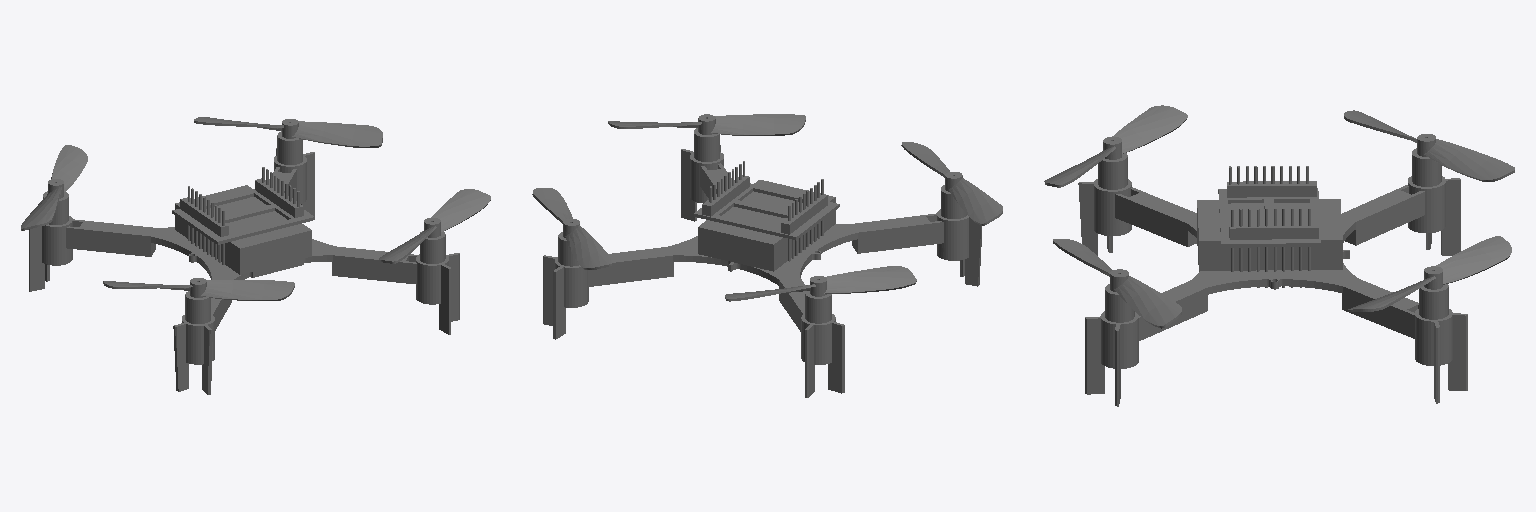
robot.urdf — racer:
<?xml version="1.0" ?>

<robot name="racer">

  <properties arm="0.109" kf="8.47e-9" km="2.13e-11" thrust2weight="4.17" max_speed_kmh="200" gnd_eff_coeff="11.36859" prop_radius="12.7e-2" drag_coeff_xy="9.1785e-7" drag_coeff_z="10.311e-7" dw_coeff_1="2267.18" dw_coeff_2=".16" dw_coeff_3="-.11" />

  <link name="base_link"> 

    <inertial>
      <origin rpy="0 0 0" xyz="0 0 0"/>
      <mass value="0.830"/>
      <inertia ixx=".003113" ixy="0.0" ixz="0.0" iyy=".003113" iyz="0.0" izz=".003113"/>
    </inertial>

    <visual>
      <origin rpy="0 0 55" xyz="0 0 0"/>
      <geometry>
        <mesh filename="./cf2.dae" scale="3 3 3"/>
      </geometry> 
      <material name="grey">
        <color rgba=".5 .5 .5 1"/>
      </material> 
    </visual>

    <collision>
      <origin rpy="0 0 0" xyz="0 0 0"/>
      <geometry>
        <cylinder radius=".06" length=".025"/>
      </geometry>
    </collision>  

  </link>

  <link name="prop0_link">
    <inertial>
      <origin rpy="0 0 0" xyz="0.0850 0.0675 0"/>
      <mass value="0"/>
      <inertia ixx="0" ixy="0" ixz="0" iyy="0" iyz="0" izz="0"/>
    </inertial>
  </link>
  <joint name="prop0_joint" type="fixed">
    <parent link="base_link"/>
    <child link="prop0_link"/>
  </joint>

  <link name="prop1_link">
    <inertial>
      <origin rpy="0 0 0" xyz="-0.0850 0.0675 0"/>
      <mass value="0"/>
      <inertia ixx="0" ixy="0" ixz="0" iyy="0" iyz="0" izz="0"/>
    </inertial>
  </link>
  <joint name="prop1_joint" type="fixed">
    <parent link="base_link"/>
    <child link="prop1_link"/>
  </joint>

  <link name="prop2_link">
    <inertial>
      <origin rpy="0 0 0" xyz="-0.085 -0.0675 0"/>
      <mass value="0"/>
      <inertia ixx="0" ixy="0" ixz="0" iyy="0" iyz="0" izz="0"/>
    </inertial>
  </link>
  <joint name="prop2_joint" type="fixed">
    <parent link="base_link"/>
    <child link="prop2_link"/>
  </joint>

  <link name="prop3_link">
    <inertial>
      <origin rpy="0 0 0" xyz="0.085 -0.0675 0"/>
      <mass value="0"/>
      <inertia ixx="0" ixy="0" ixz="0" iyy="0" iyz="0" izz="0"/>
    </inertial>
  </link>
  <joint name="prop3_joint" type="fixed">
    <parent link="base_link"/>
    <child link="prop3_link"/>
  </joint>

  <link name="center_of_mass_link">
    <inertial>
      <origin rpy="0 0 0" xyz="0 0 0"/>
      <mass value="0"/>
      <inertia ixx="0" ixy="0" ixz="0" iyy="0" iyz="0" izz="0"/>
    </inertial>
  </link>
  <joint name="center_of_mass_joint" type="fixed">
    <parent link="base_link"/>
    <child link="center_of_mass_link"/>
  </joint>

</robot>

--- What the picture shows (computed from the rendered views, not written in the file) ---
Views: 3 orthographic renders of the robot side by side, from view 1: azimuth 30°, elevation 25°; view 2: azimuth 150°, elevation 25°; view 3: azimuth 270°, elevation 25°.
Model racer with 6 links and 5 joints (5 fixed), rooted at base_link, posed every joint at zero.
Links seen in each view (by area): view 1: base_link; view 2: base_link; view 3: base_link.
Boxes of the visible links, bbox=[...] form: base_link: bbox=[21, 117, 490, 394]; base_link: bbox=[532, 114, 1002, 397]; base_link: bbox=[1044, 105, 1514, 406].
Size in the robot's own frame: 0.3175 by 0.2938 by 0.0931 metres.
Meshes: 1 distinct files referenced, 1 mesh visuals loaded (1 Collada DAE).